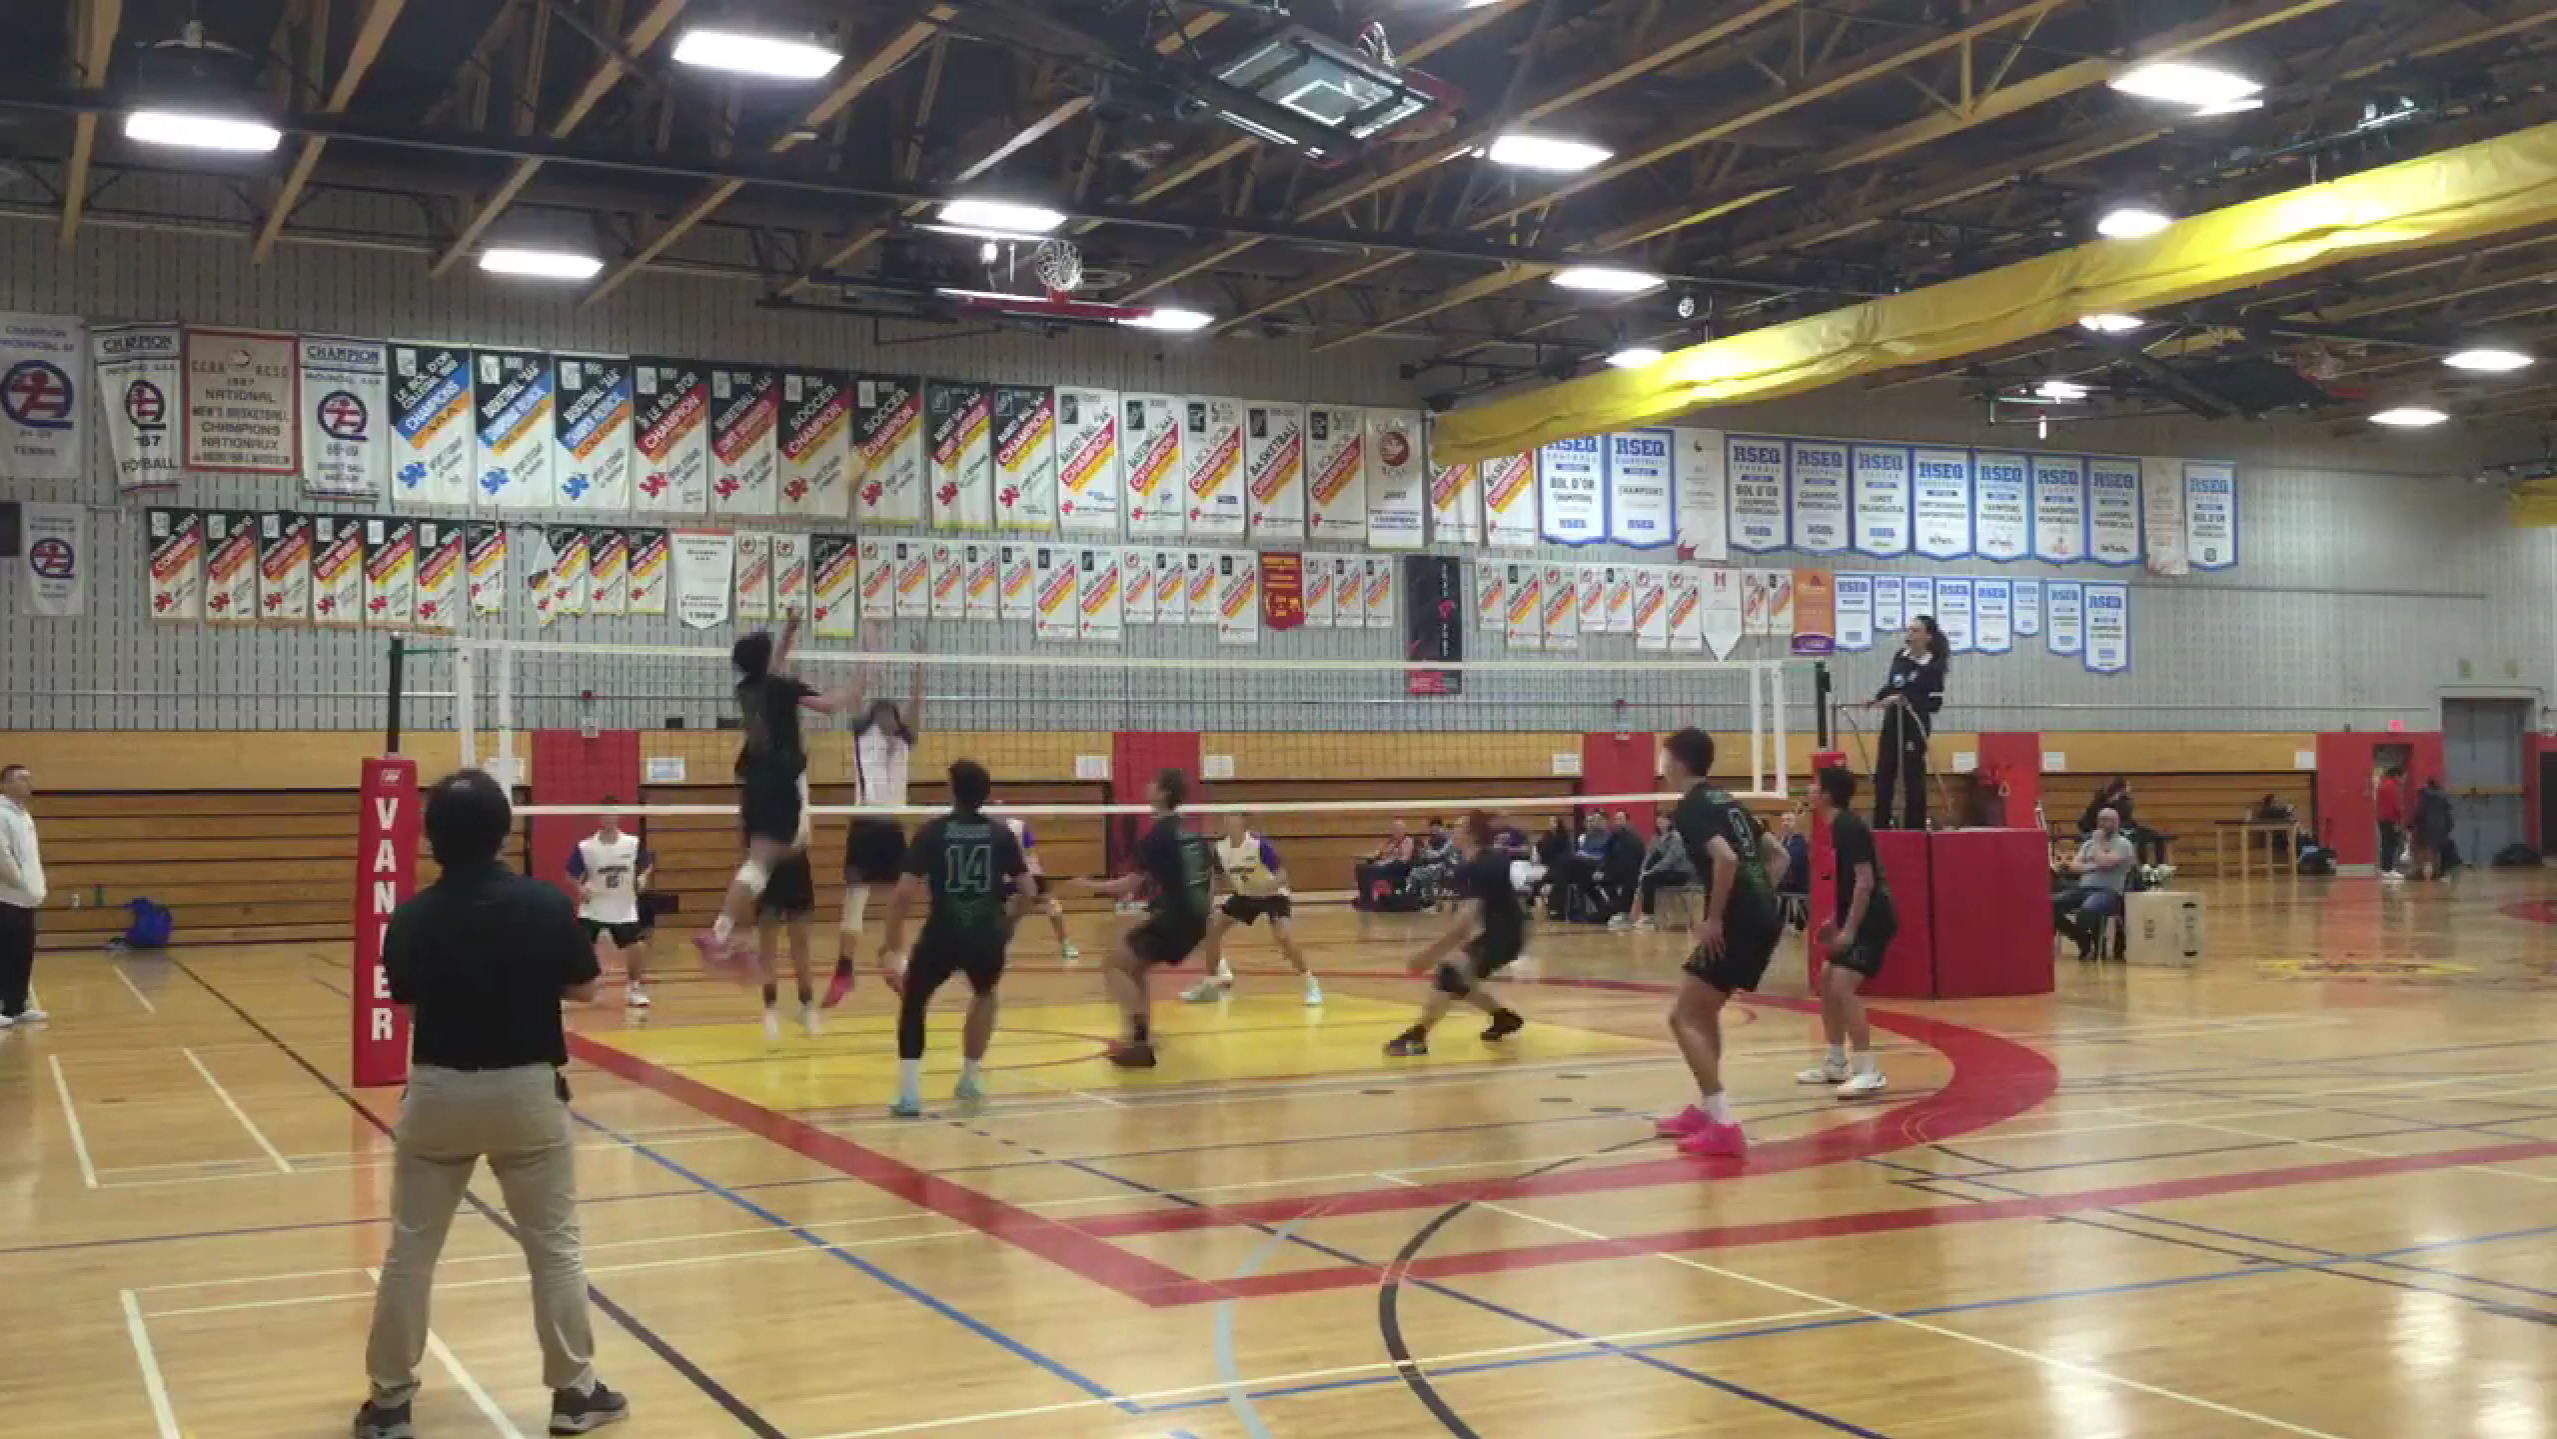Ball: (832, 452, 875, 490)
